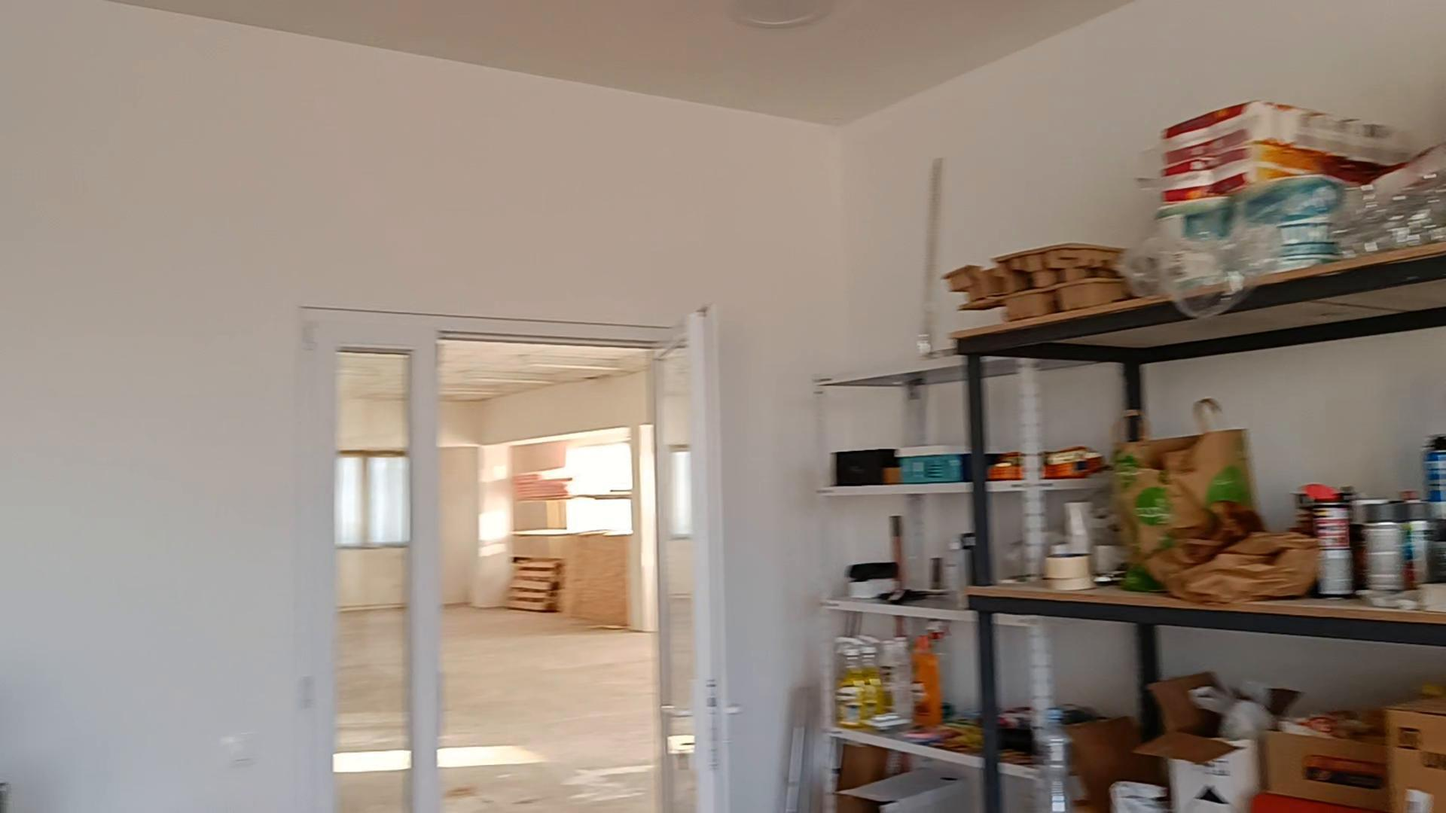ceiling: (111, 0, 1132, 125)
floor: (439, 607, 657, 812)
wall: (0, 0, 1445, 812)
